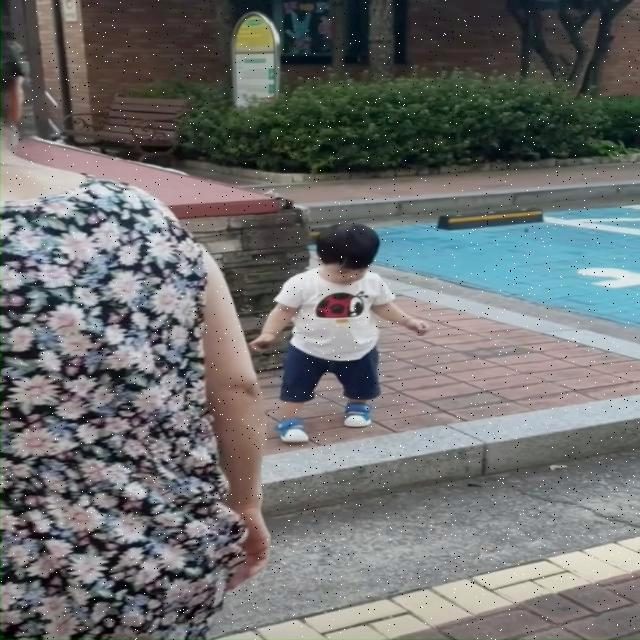child: (243, 218, 432, 448)
